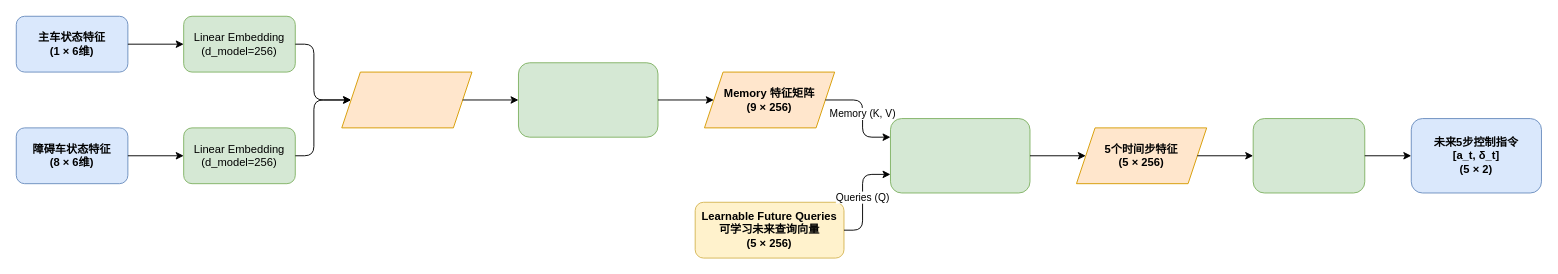
Some shapes in this 1558 by 274 pixel diagram are drawn without their labels. The shapes that lost their labels are listed below. From the top down, each one's centre as x and y in pixels, then its label:
At point 406,99: "拼接与序列化 9个 Token (9 × 256)".
At point 588,99: "Transformer Encoder (N_enc Layers) 多头自注意力机制".
At point 960,155: "Transformer Decoder (N_dec Layers) 交叉注意力机制".
At point 1308,155: "Prediction Head (MLP + Tanh)".
